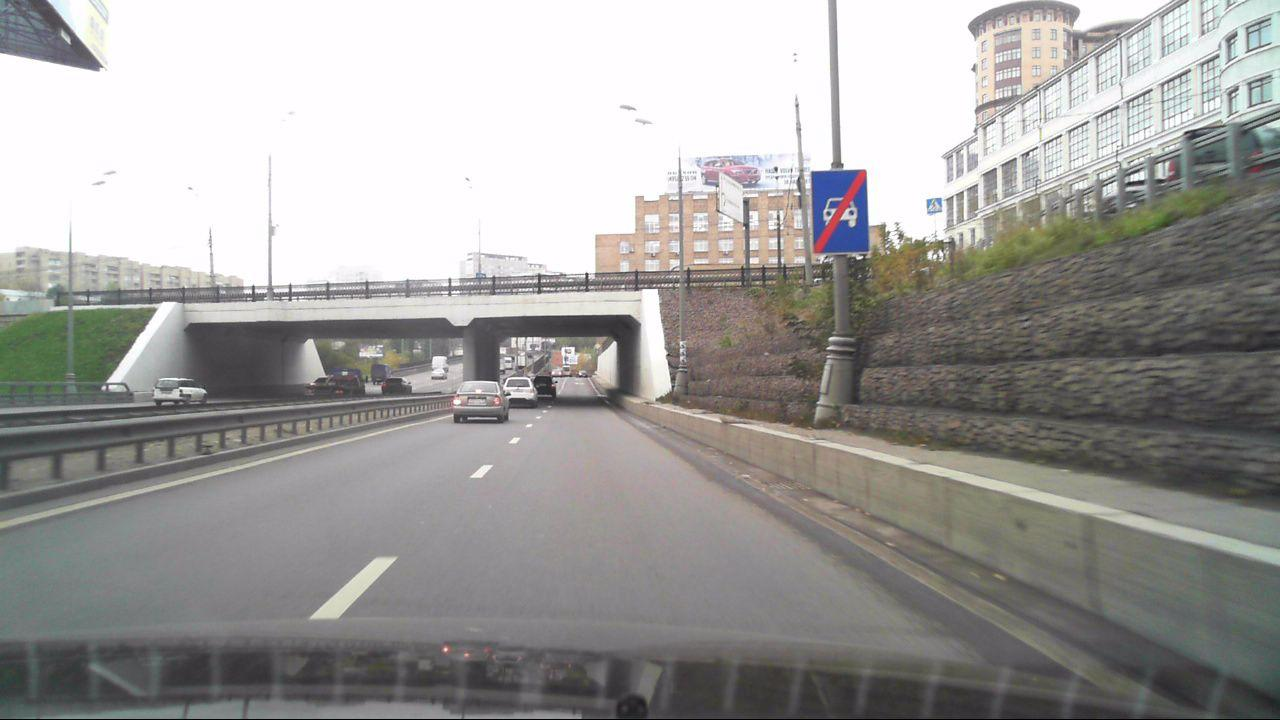5_19_1: (924, 194, 943, 217)
5_4: (811, 170, 869, 254)
